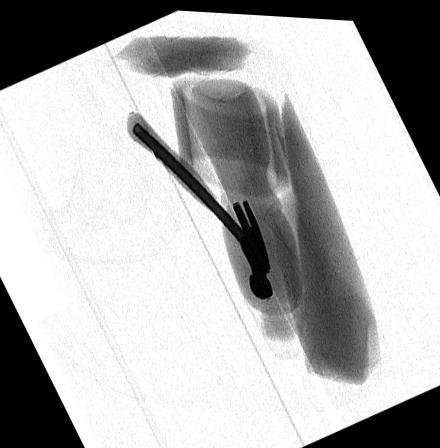Hammer: (125, 109, 273, 296)
